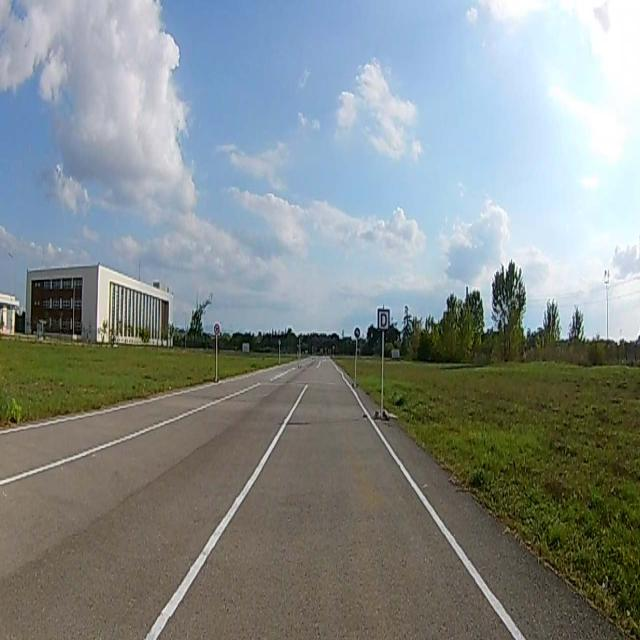durak: (378, 308, 390, 330)
